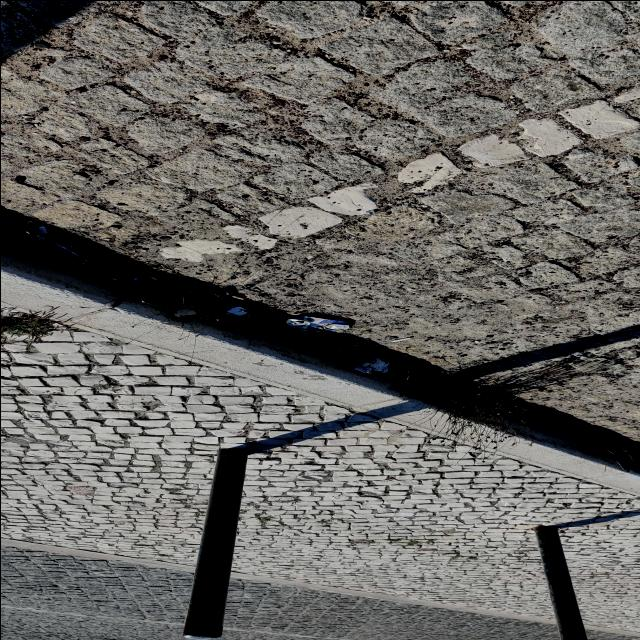Cigarette: (389, 336, 411, 341), (83, 244, 96, 252), (102, 276, 121, 281), (185, 285, 198, 292), (305, 326, 320, 331), (230, 294, 245, 299), (159, 282, 168, 289), (315, 326, 326, 331), (37, 226, 46, 232), (244, 311, 251, 318), (331, 330, 343, 332)
Drink can: (283, 316, 348, 331)
Normal paper: (225, 306, 249, 315), (170, 308, 194, 316)
Plastic film: (25, 228, 117, 284)
Pop tab: (286, 320, 300, 325)
Tissues: (353, 357, 387, 372)
